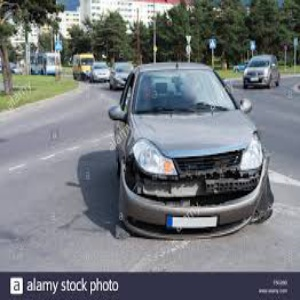front_windshield_glass: (155, 72, 232, 118)
